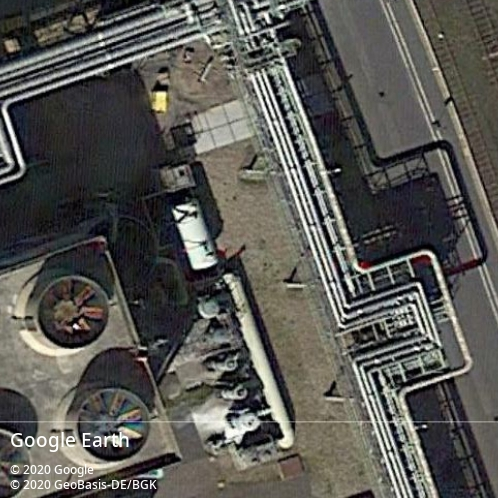Vent: (75, 388, 153, 465), (34, 275, 112, 351)
